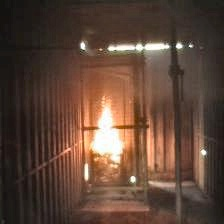fire: (89, 101, 130, 166)
